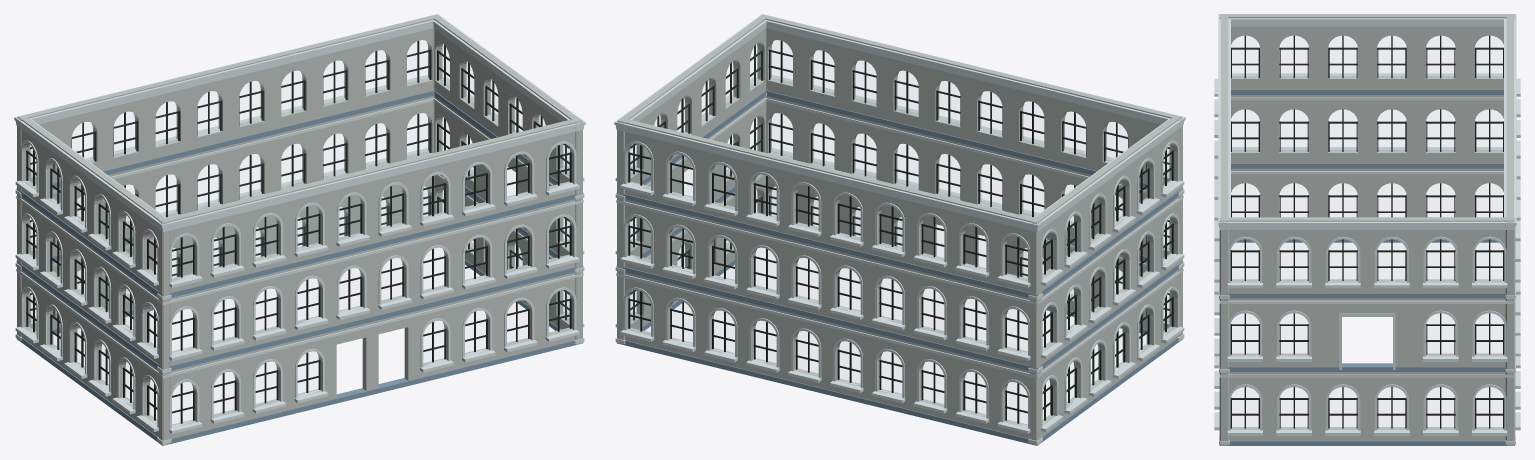
The model's file is gh_warehouse_v01.glb.
The picture shows the model from 3 angles, left to right: view 1: azimuth 30°, elevation 25°; view 2: azimuth 150°, elevation 25°; view 3: azimuth 270°, elevation 25°; orthographic projection.
Parts seen in each view (by area): view 1: level_2_front, level_2_back, level_1_front, level_0_front, level_2_sides, level_1_back, level_1_sides, level_0_sides, structural_corner_pilasters, level_0_back; view 2: level_2_back, level_2_front, level_1_back, level_0_back, level_2_sides, level_1_front, level_1_sides, level_0_sides, structural_corner_pilasters, level_0_front; view 3: level_2_sides, level_1_sides, level_0_sides, structural_corner_pilasters, level_2_back, level_2_front, level_1_back, level_1_front, level_0_back, level_0_front.
Part boxes in pixels (<box>): level_2_front: <box>156,117,585,297</box>; level_2_back: <box>14,14,443,192</box>; level_1_front: <box>158,199,583,370</box>; level_0_front: <box>158,272,583,445</box>; level_2_sides: <box>15,14,584,295</box>; level_1_back: <box>16,96,433,265</box>; level_1_sides: <box>15,96,584,368</box>; level_0_sides: <box>15,174,584,442</box>; structural_corner_pilasters: <box>15,15,584,445</box>; level_0_back: <box>16,177,431,341</box>; level_2_back: <box>614,117,1043,297</box>; level_2_front: <box>756,14,1185,192</box>; level_1_back: <box>616,199,1041,370</box>; level_0_back: <box>616,272,1041,445</box>; level_2_sides: <box>615,14,1184,295</box>; level_1_front: <box>766,96,1183,265</box>; level_1_sides: <box>615,96,1184,368</box>; level_0_sides: <box>615,174,1184,442</box>; structural_corner_pilasters: <box>615,15,1184,445</box>; level_0_front: <box>768,177,1183,341</box>; level_2_sides: <box>1221,14,1513,298</box>; level_1_sides: <box>1227,95,1507,371</box>; level_0_sides: <box>1227,168,1507,445</box>; structural_corner_pilasters: <box>1219,14,1515,445</box>; level_2_back: <box>1504,14,1520,295</box>; level_2_front: <box>1214,14,1230,295</box>; level_1_back: <box>1505,158,1520,368</box>; level_1_front: <box>1214,158,1229,368</box>; level_0_back: <box>1505,294,1520,445</box>; level_0_front: <box>1214,294,1229,445</box>.
Bounding box in the file's own units: 30.81 × 15.24 × 18.81.
2 materials, 1 textured.
